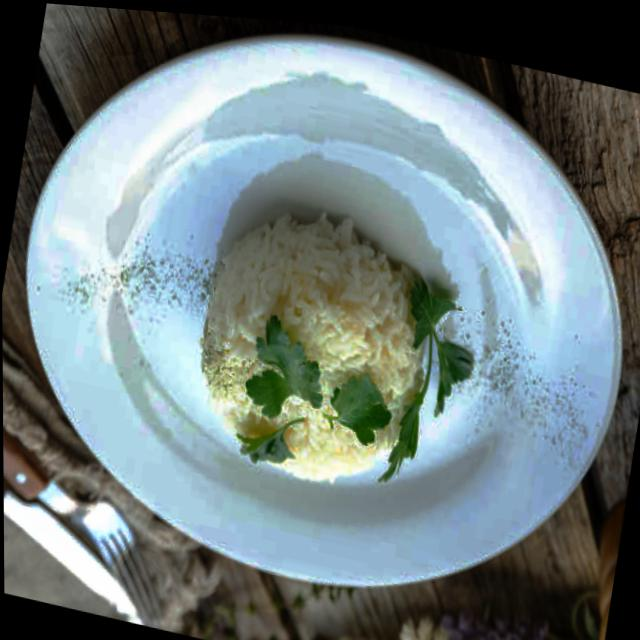rice: (182, 184, 445, 507)
